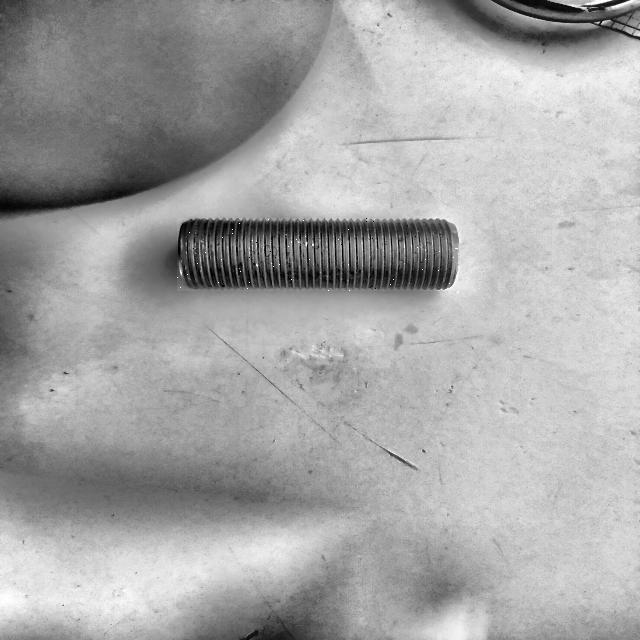Normal: (177, 218, 459, 291)
